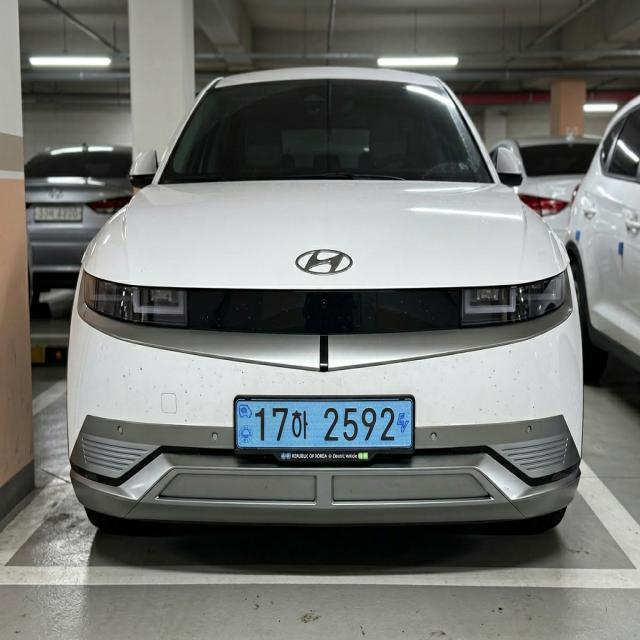car: (223, 388, 431, 480)
carev: (237, 399, 254, 448), (396, 404, 411, 446)
